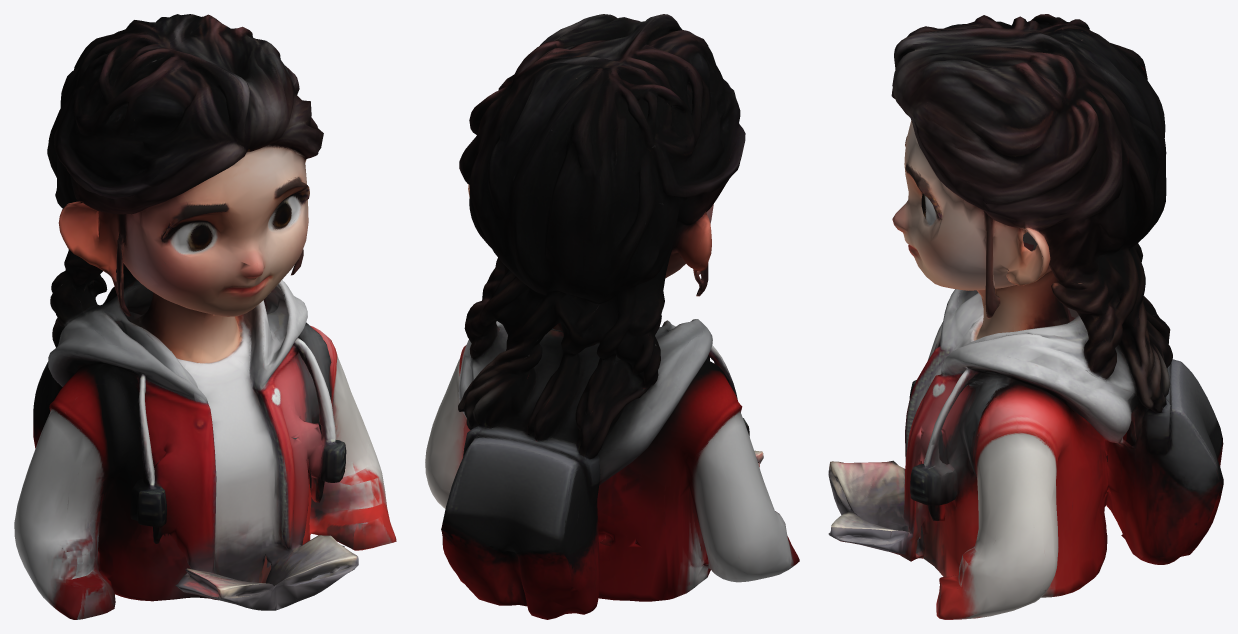
File: Girl1Boutique.glb
3 views of the same model, side by side, from view 1: azimuth 30°, elevation 25°; view 2: azimuth 150°, elevation 25°; view 3: azimuth 270°, elevation 25° (orthographic). The views are drawn at different scales.
Parts seen in each view (by area): view 1: world; view 2: world; view 3: world.
Part boxes in pixels (bbox=[...]): world: bbox=[14, 14, 396, 619]; world: bbox=[425, 14, 799, 619]; world: bbox=[828, 14, 1223, 619].
Size of the model in its own units: 0.7012 by 0.9997 by 0.6961.
Materials: 1 (1 with a texture image).
